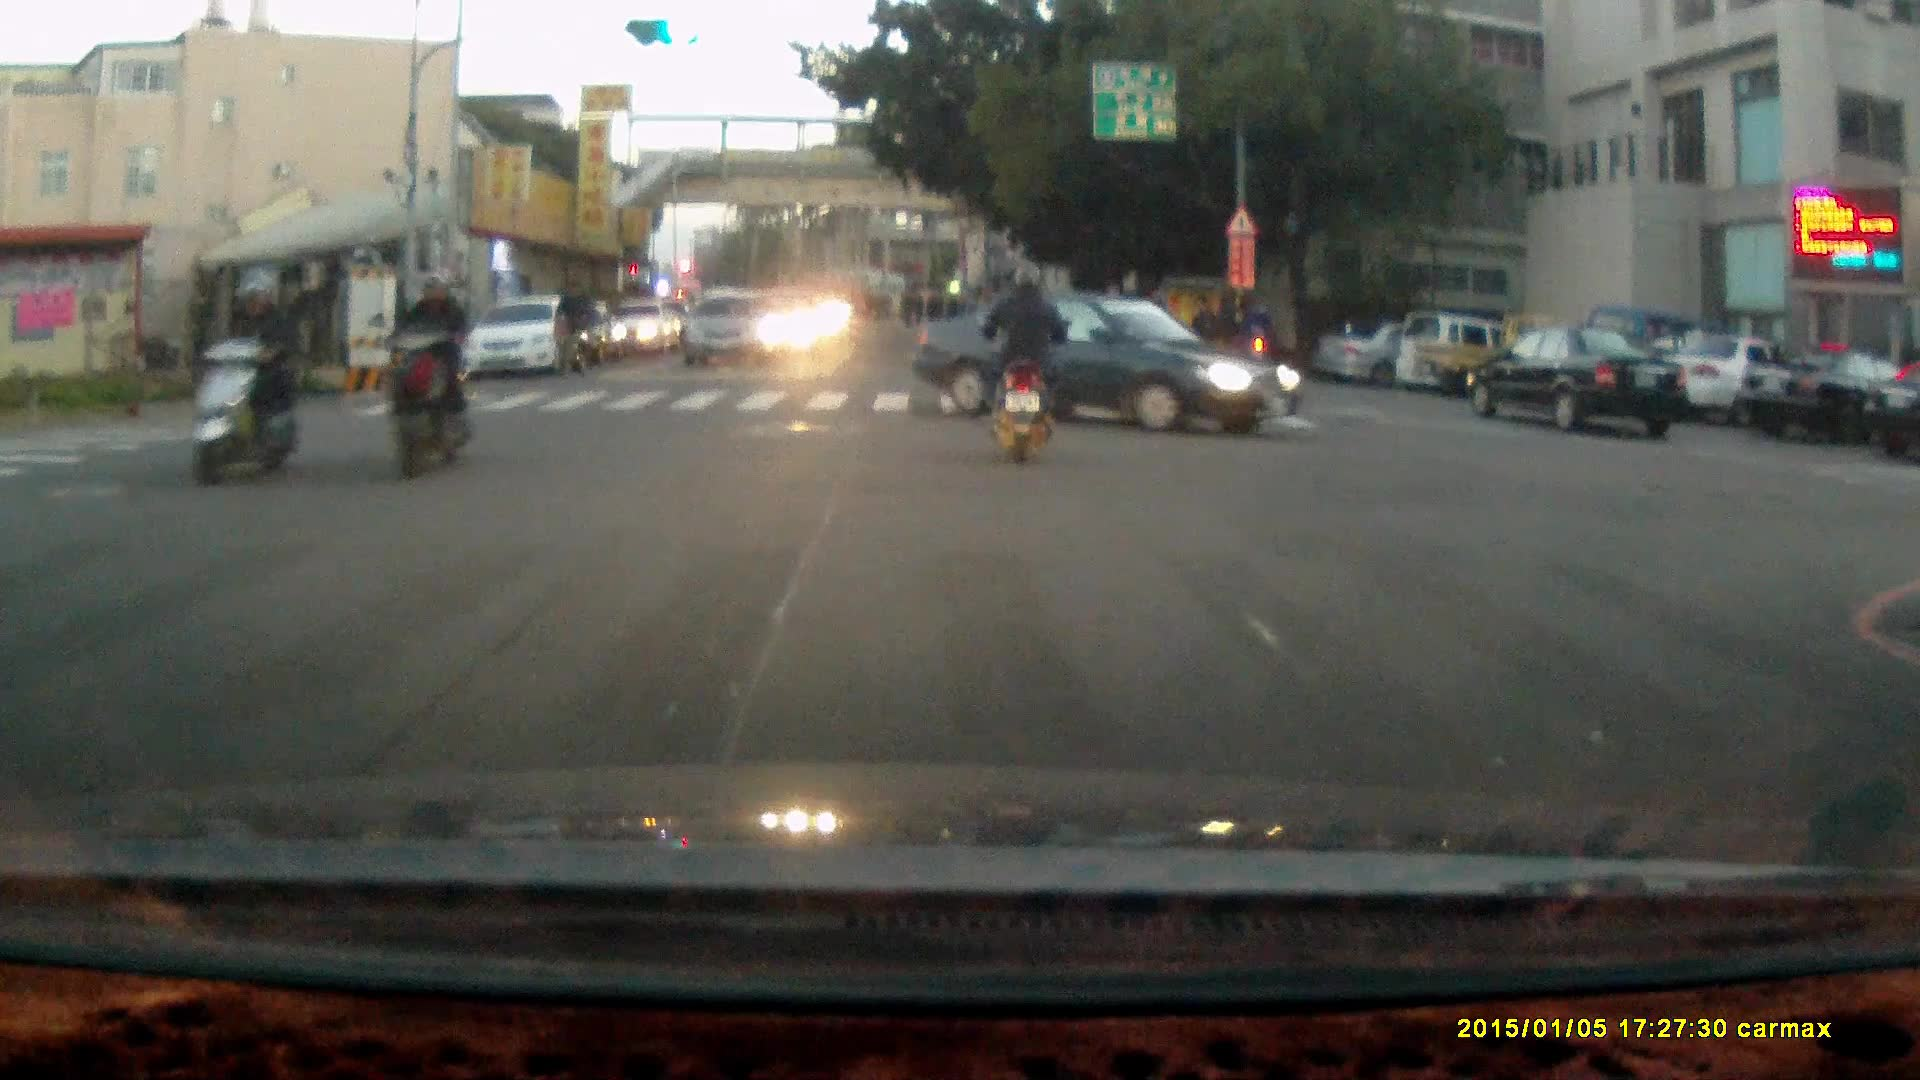pedestrian: (1190, 291, 1223, 385)
rider: (185, 264, 301, 488), (372, 265, 475, 484), (982, 259, 1071, 459), (551, 279, 592, 377), (1235, 299, 1279, 368)
vehicle: (901, 286, 1307, 439), (1466, 327, 1693, 436), (1646, 332, 1835, 431), (1408, 313, 1619, 401), (1749, 346, 1920, 447), (1314, 313, 1500, 370), (462, 293, 589, 375), (680, 291, 782, 371), (1861, 370, 1920, 469)
